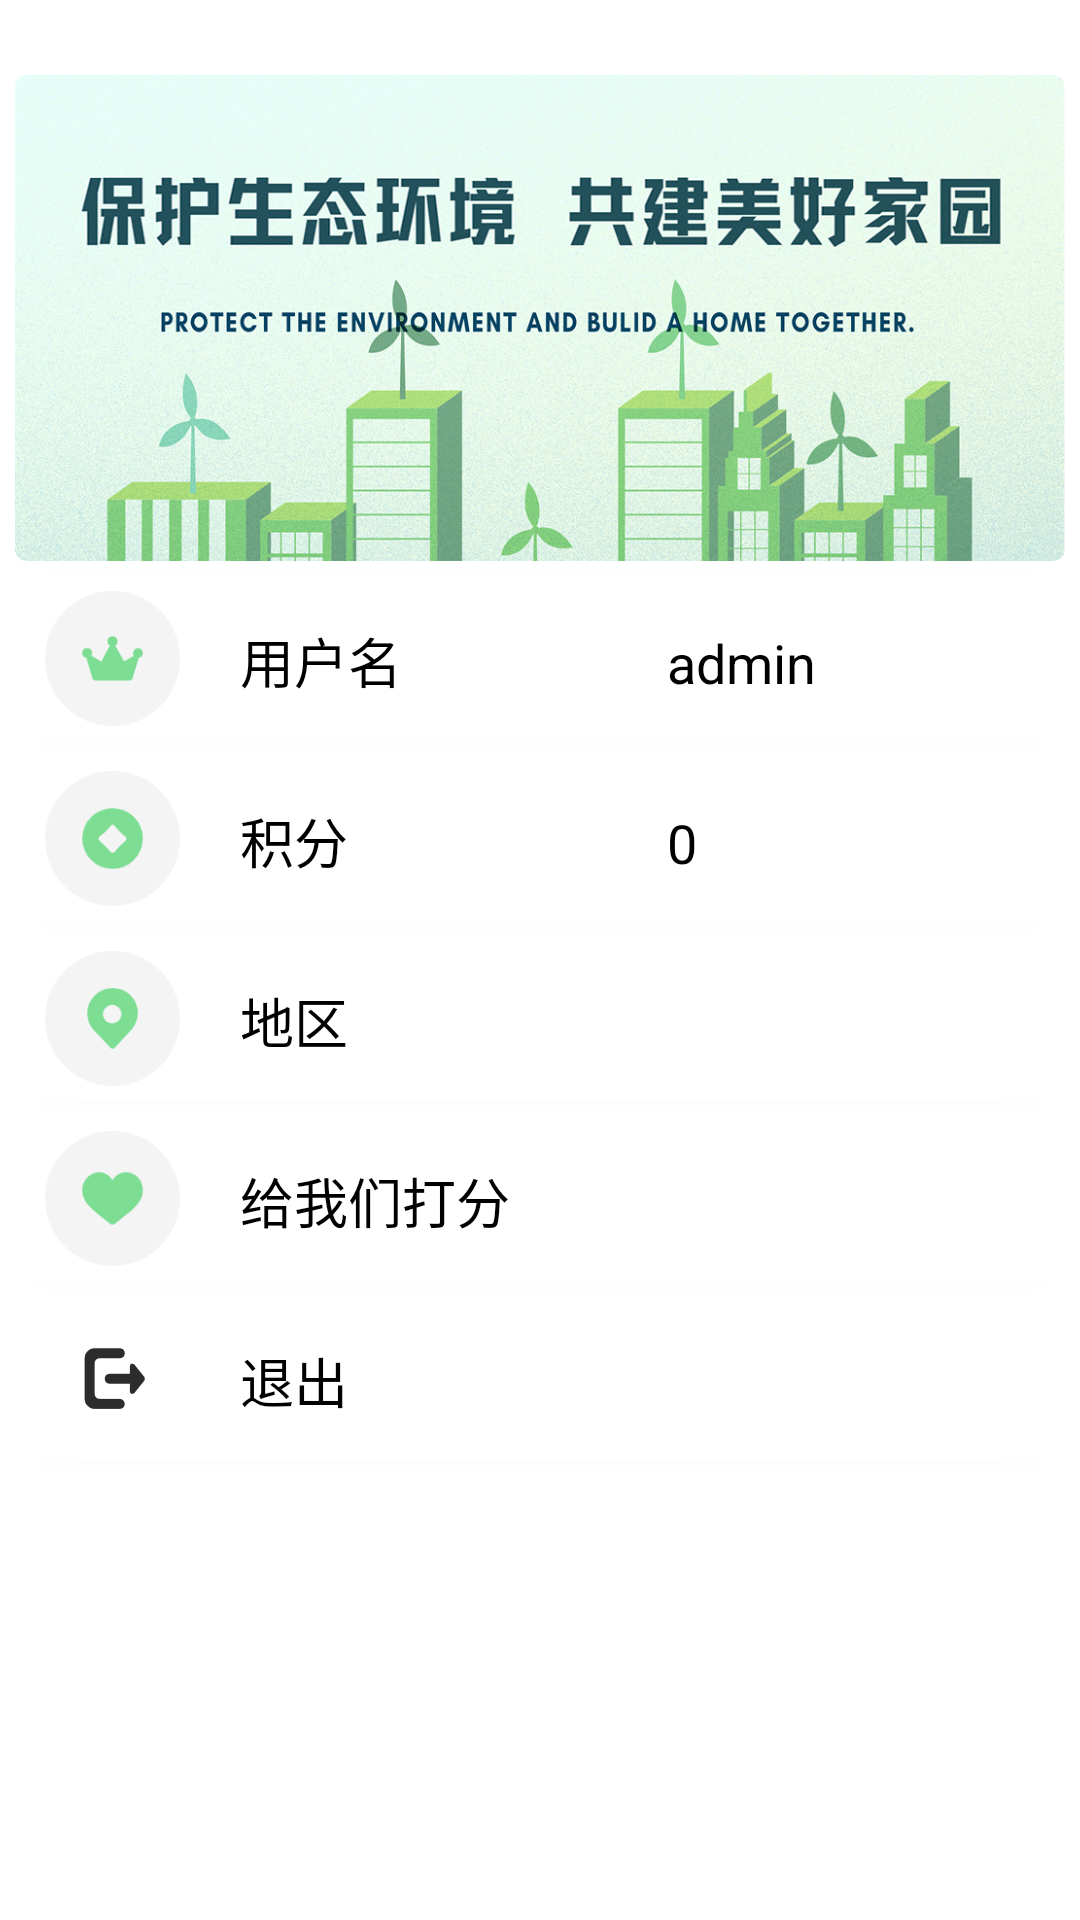

Named icons in this screenshot (1080x1920) and their bounding boxes, (x1, y1, x2, y2):
exit: (84, 1348, 145, 1409)
place: (87, 988, 138, 1049)
